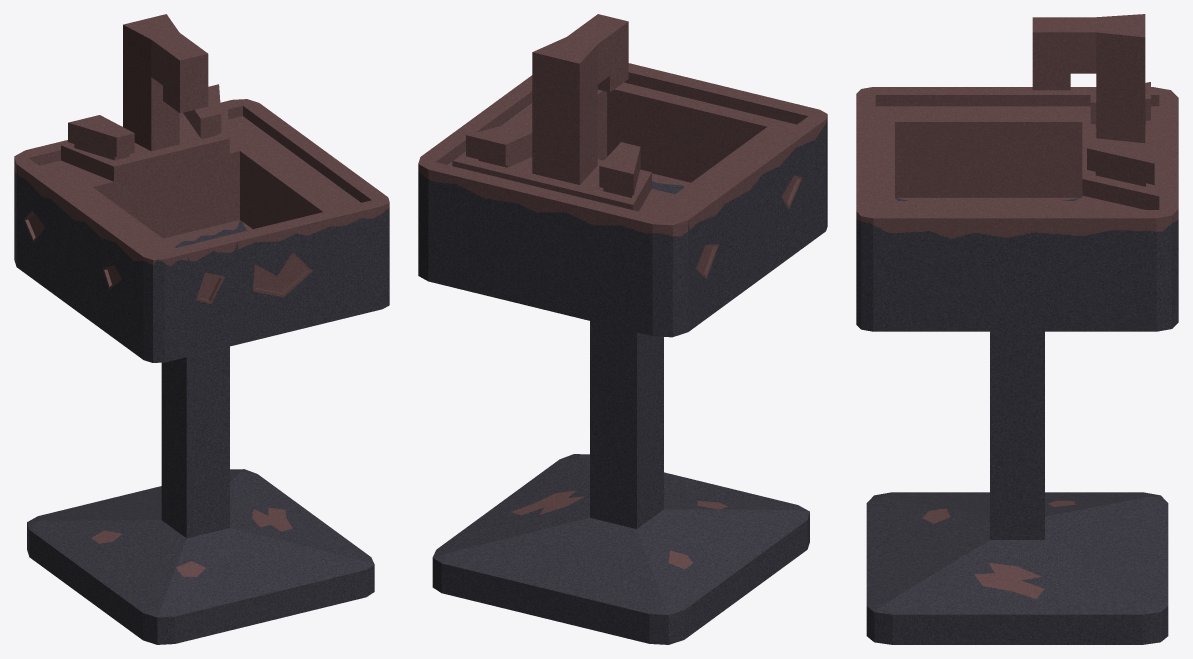
The model's file is CDSink.fbx.
3 views of the same model, side by side, from view 1: azimuth 30°, elevation 25°; view 2: azimuth 150°, elevation 25°; view 3: azimuth 270°, elevation 25° (orthographic). The views are drawn at different scales.
Parts seen in each view (by area): view 1: Sink.003; view 2: Sink.003; view 3: Sink.003.
Boxes of the visible parts, left/top/right/bottom form: Sink.003: left=14, top=14, right=389, bottom=644; Sink.003: left=418, top=14, right=827, bottom=644; Sink.003: left=856, top=14, right=1178, bottom=644.
Size of the model in its own units: 58.35 by 116 by 60.53.
